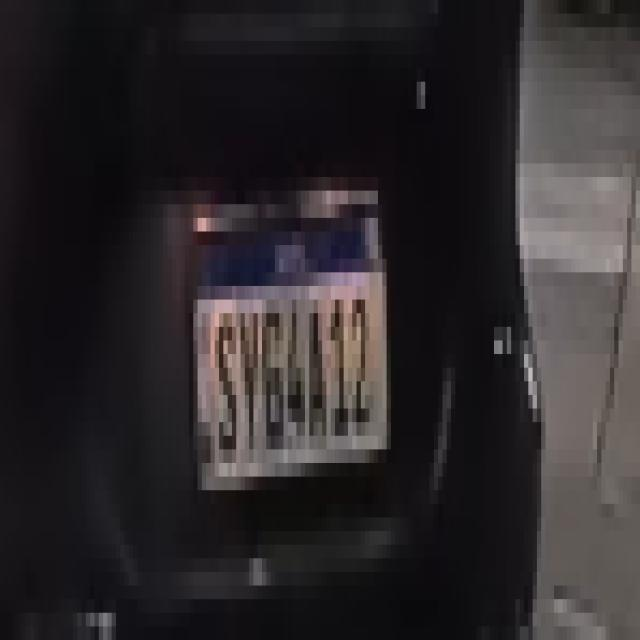Placa_mercosul_carro: (197, 187, 390, 479)
